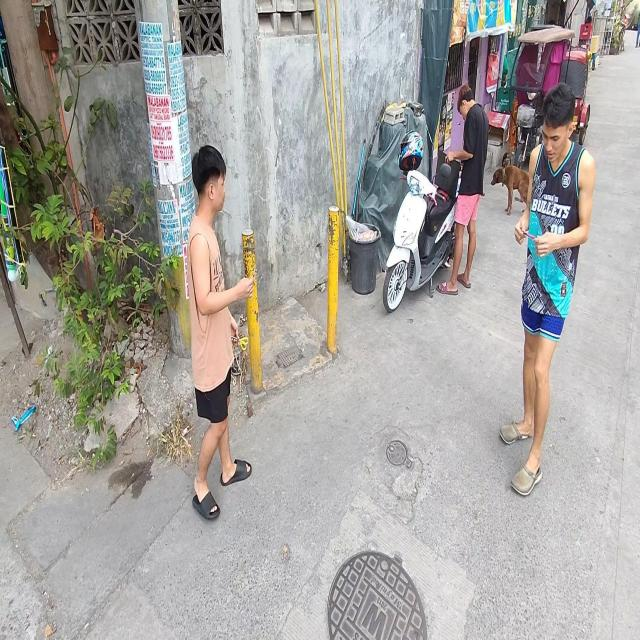scissor: (232, 336, 248, 351)
